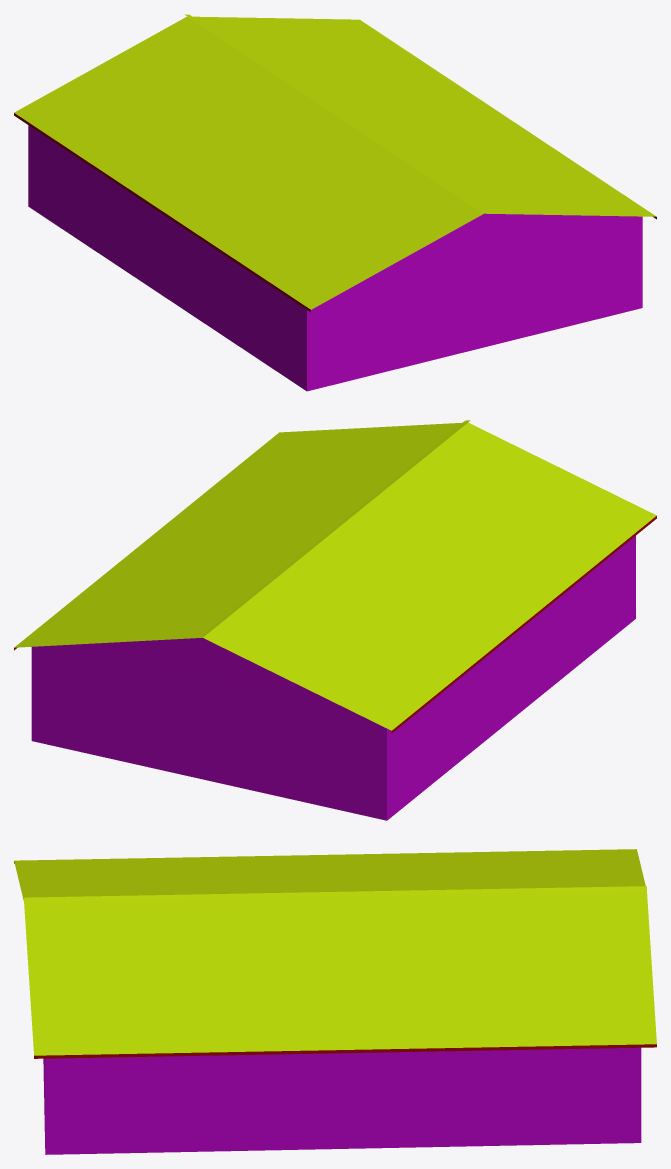
File: scl_101.glb
3 views of the same model, one above another, from view 1: azimuth 30°, elevation 25°; view 2: azimuth 150°, elevation 25°; view 3: azimuth 270°, elevation 25° (orthographic). The views are drawn at different scales.
Parts seen in each view (by area): view 1: scl_101; view 2: scl_101; view 3: scl_101.
Boxes of the visible parts, x1,y1,x2,y2 form: scl_101: [14, 14, 656, 391]; scl_101: [14, 420, 656, 820]; scl_101: [14, 849, 656, 1154].
Bounding box in the file's own units: 16.7 × 6.16 × 21.96.
